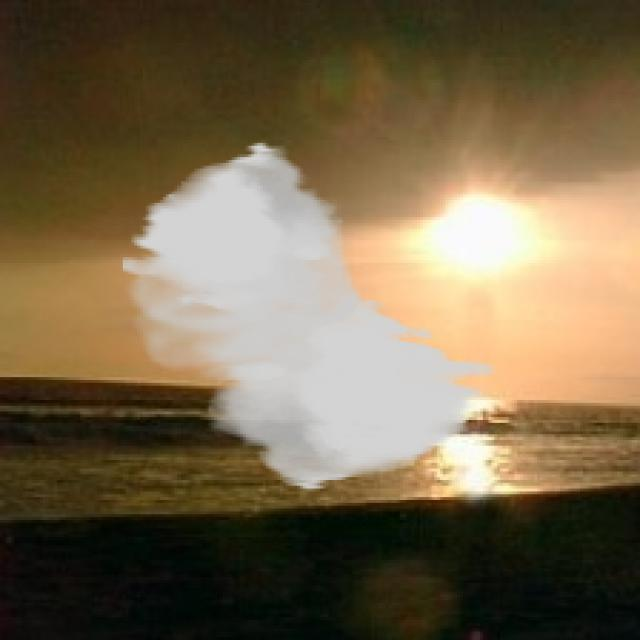smoke: (120, 140, 494, 491)
